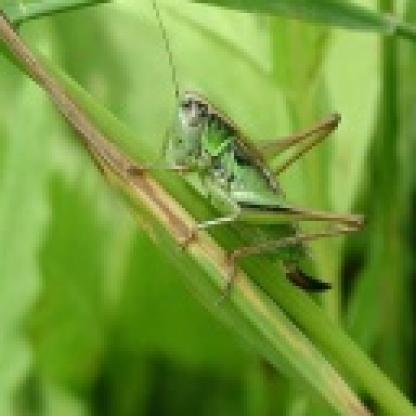grasshopper: (134, 77, 367, 304)
